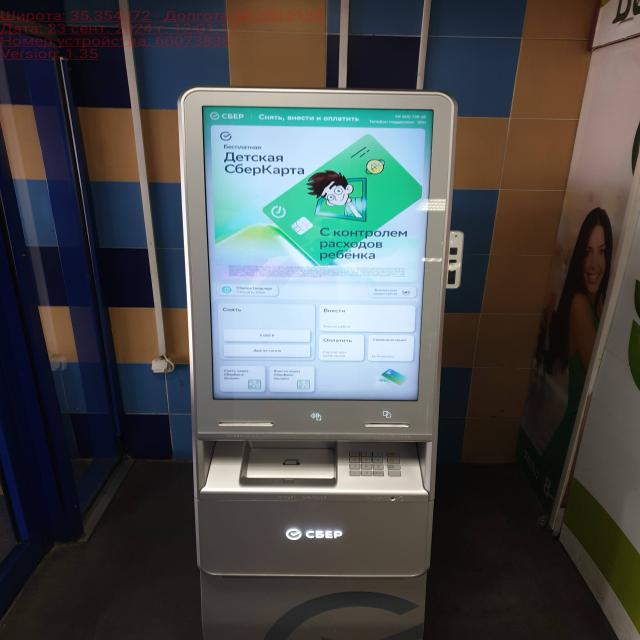bank: (167, 82, 455, 640)
